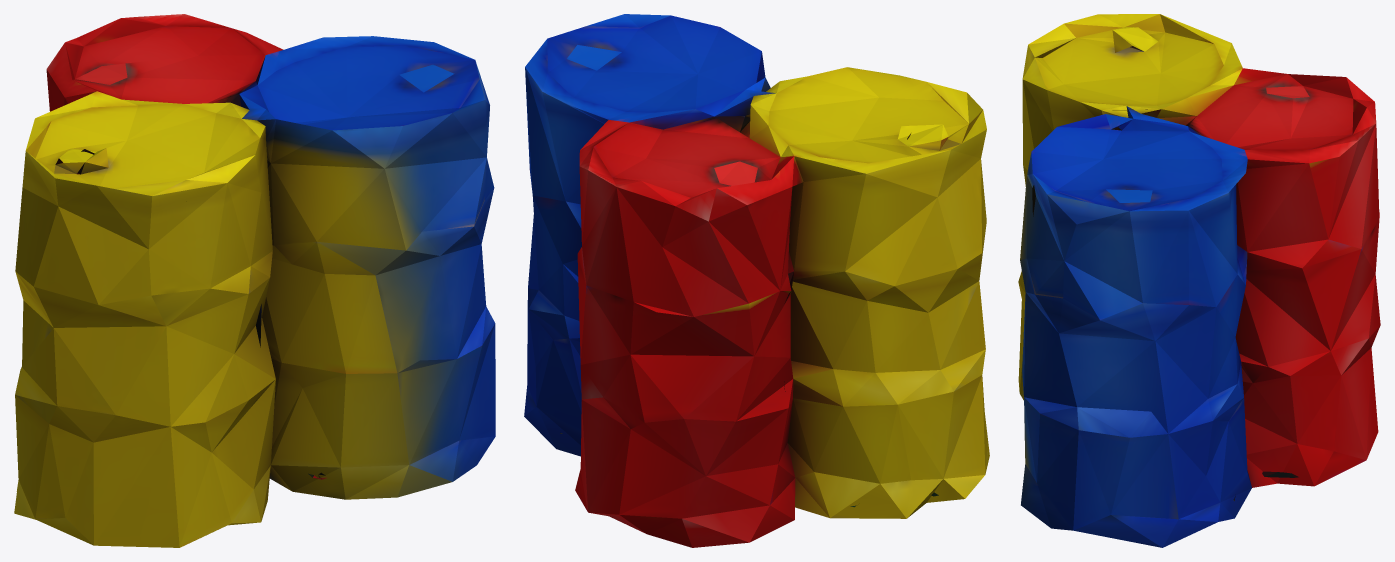
Rendered from oil_barrels.glb.
3 views of the same model, side by side, from view 1: azimuth 30°, elevation 25°; view 2: azimuth 150°, elevation 25°; view 3: azimuth 270°, elevation 25° (orthographic). The views are drawn at different scales.
Visible parts, largest first — view 1: geometry_0; view 2: geometry_0; view 3: geometry_0.
Part boxes in pixels (x1,y1,x2,y2): geometry_0: (14,14,495,547); geometry_0: (524,14,989,547); geometry_0: (1018,14,1380,547).
Bounding box in the file's own units: 0.993 × 0.7755 × 0.7477.
1 material, 1 textured.
